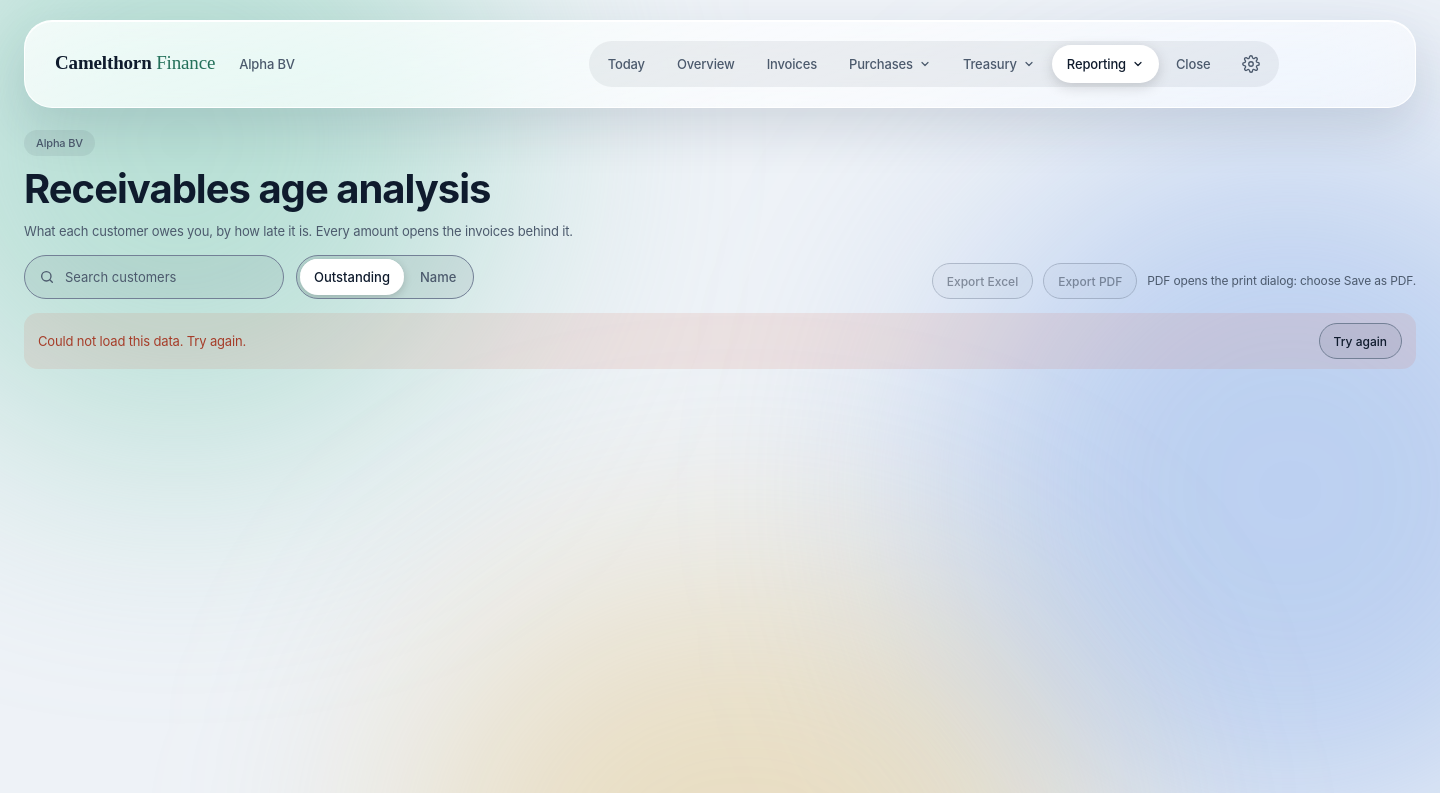
Receivables age analysis › shows loading, then an error with a retry that loads again
This screenshot has width=1440, height=793.
Expected: the message "Could not load this data. Try again. Try again" is shown, [24,313,1416,369]
Expected: the message shows "Could not load this data. Try again.", [38,333,246,349]
Click the button "Try again". click: click(1360, 341)
box: [1319,323,1402,359]
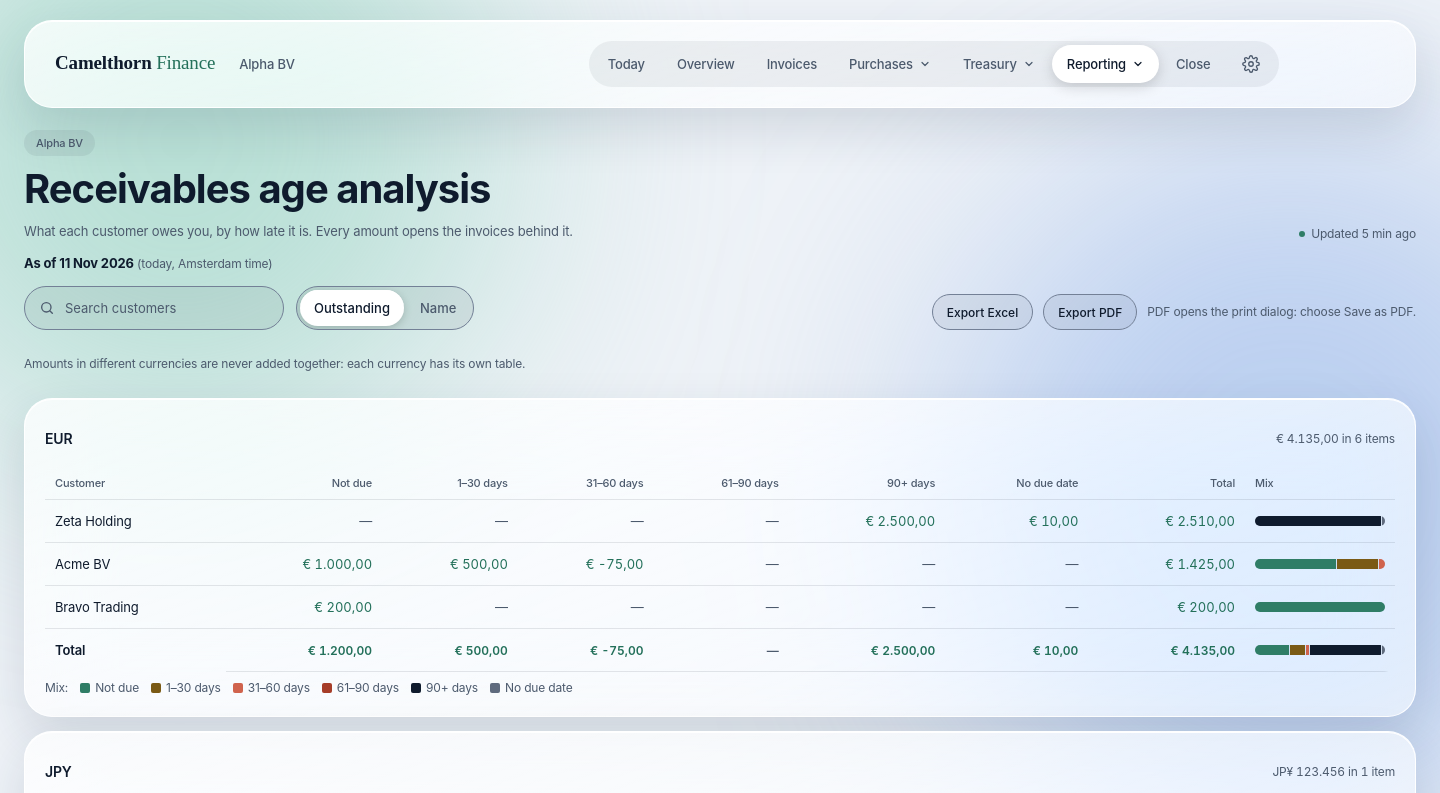
Expected: the element named "Receivables age analysis in EUR" is shown, [45,467,1395,672]
